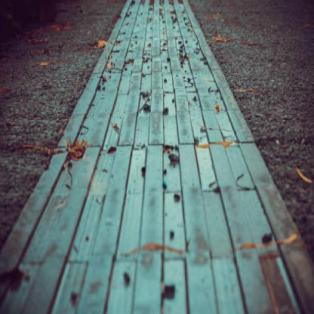Podoctatil: (2, 5, 311, 310)
